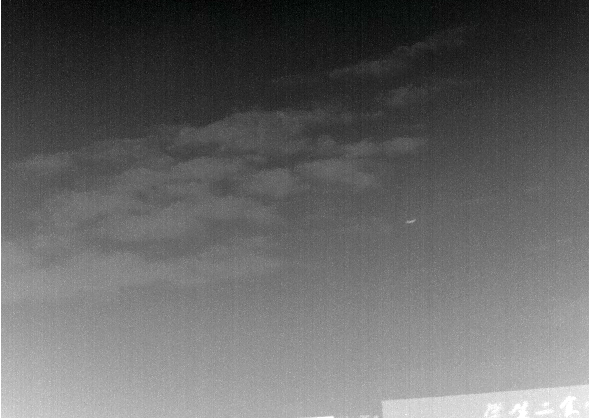dim target: (405, 218, 417, 224)
